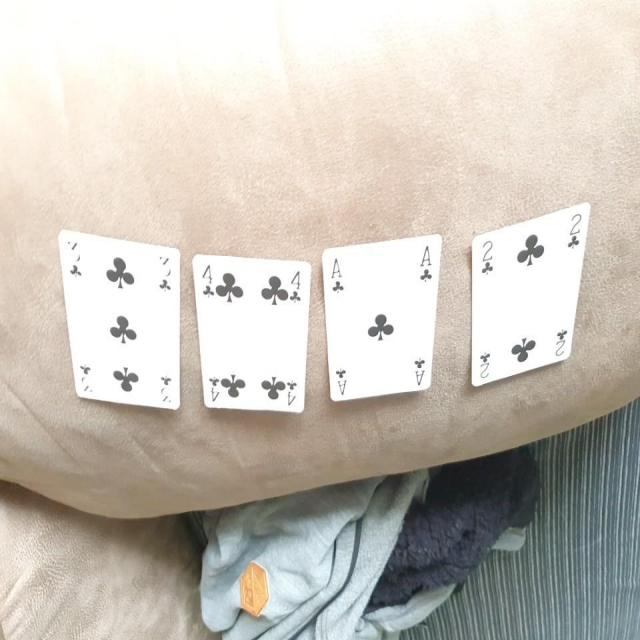2 Trefoils: (470, 200, 591, 385)
3 Trefoils: (57, 230, 184, 412)
4 Trefoils: (190, 251, 313, 417)
A Trefoils: (319, 234, 442, 402)
